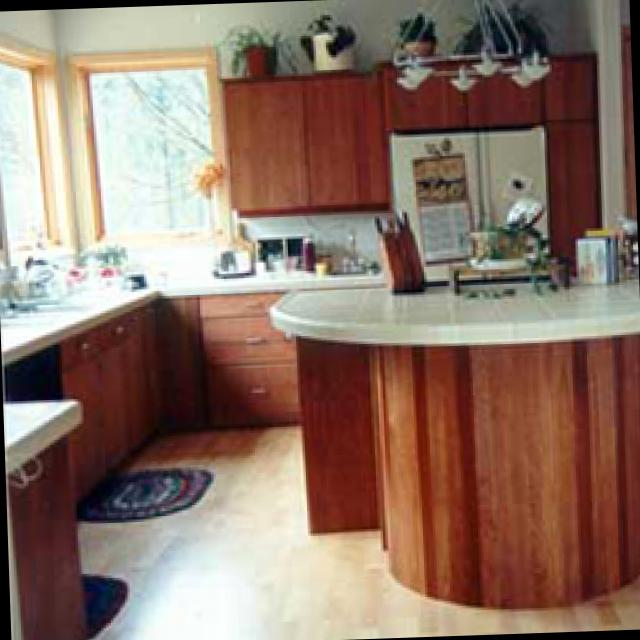2001: (76, 46, 227, 240), (0, 38, 75, 256)
books crop: (577, 224, 631, 282)
bottle crop: (303, 232, 319, 266)
bouquet: (195, 156, 251, 235)
cabinets: (298, 334, 640, 607), (61, 284, 301, 514), (388, 50, 606, 271), (221, 68, 391, 213)
calender: (412, 150, 475, 256)
ceiling lamps: (373, 0, 556, 90)
counter bottom: (4, 255, 389, 363), (272, 269, 640, 342), (8, 396, 90, 473)
cup and saucer: (128, 268, 153, 286), (270, 256, 290, 269)
knives: (379, 212, 433, 292)
plant -x: (456, 0, 558, 58), (300, 14, 360, 70), (228, 24, 285, 70), (400, 4, 438, 54), (78, 240, 135, 273)
pot hanger: (462, 222, 544, 272)
refridgerator: (394, 122, 558, 276)
rug -partially obscured-: (76, 462, 218, 516), (84, 571, 129, 638)
sink basin: (12, 281, 126, 308)
sink occluded: (23, 252, 66, 297)
toaster oven: (218, 241, 257, 274)
